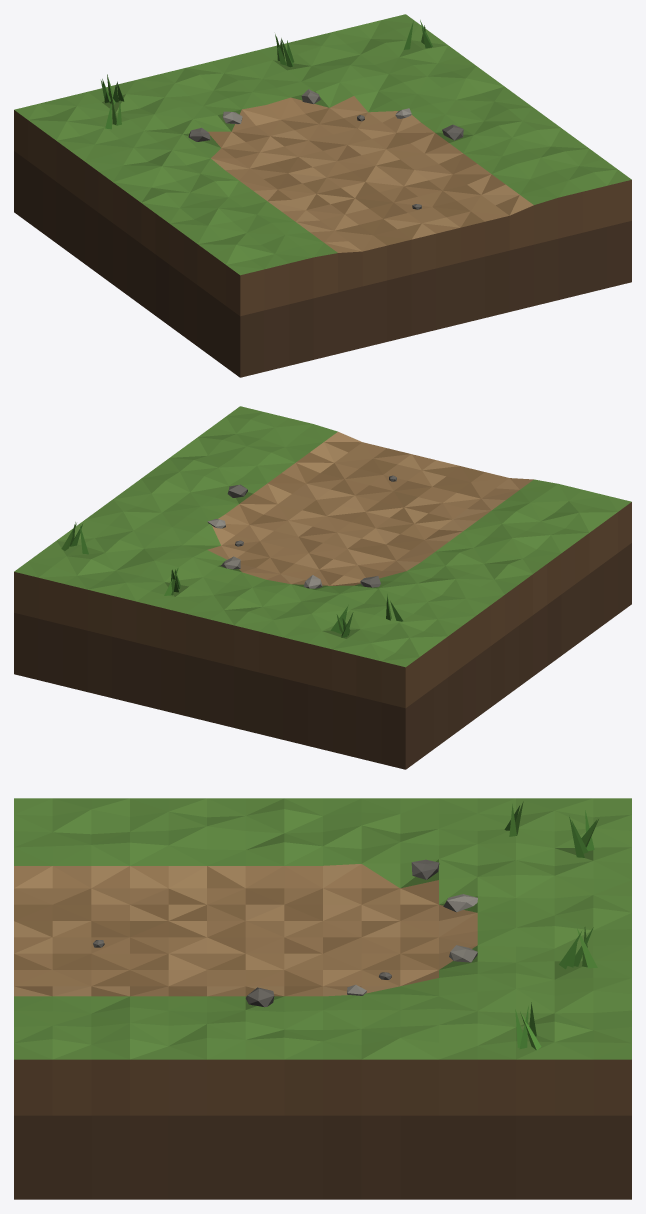
File: road_end.glb
The picture shows the model from 3 angles, top to bottom: view 1: azimuth 30°, elevation 25°; view 2: azimuth 150°, elevation 25°; view 3: azimuth 270°, elevation 25°; orthographic projection. The views are drawn at different scales.
Visible parts, largest first — view 1: RoadEnd; view 2: RoadEnd; view 3: RoadEnd.
Part boxes in pixels (left/top/right/bottom): RoadEnd: left=14, top=14, right=631, bottom=377; RoadEnd: left=14, top=406, right=631, bottom=769; RoadEnd: left=14, top=798, right=631, bottom=1199.
Size of the model in its own units: 2 by 0.6392 by 2.
